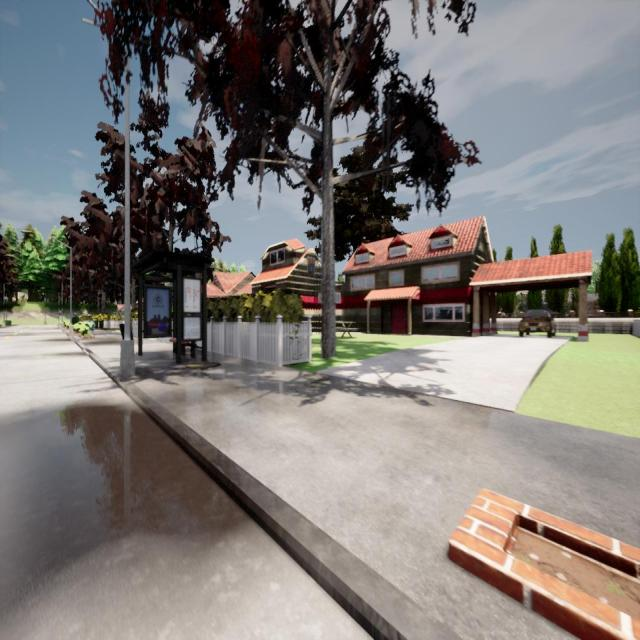Vehicle: (518, 308, 556, 336)
